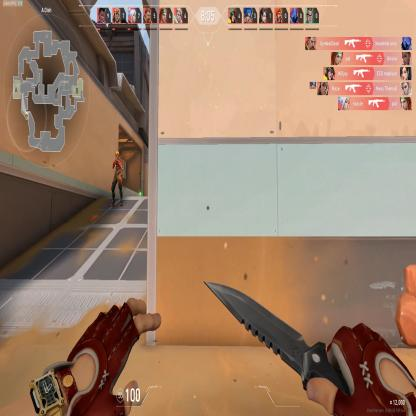enemy: (109, 148, 125, 210)
